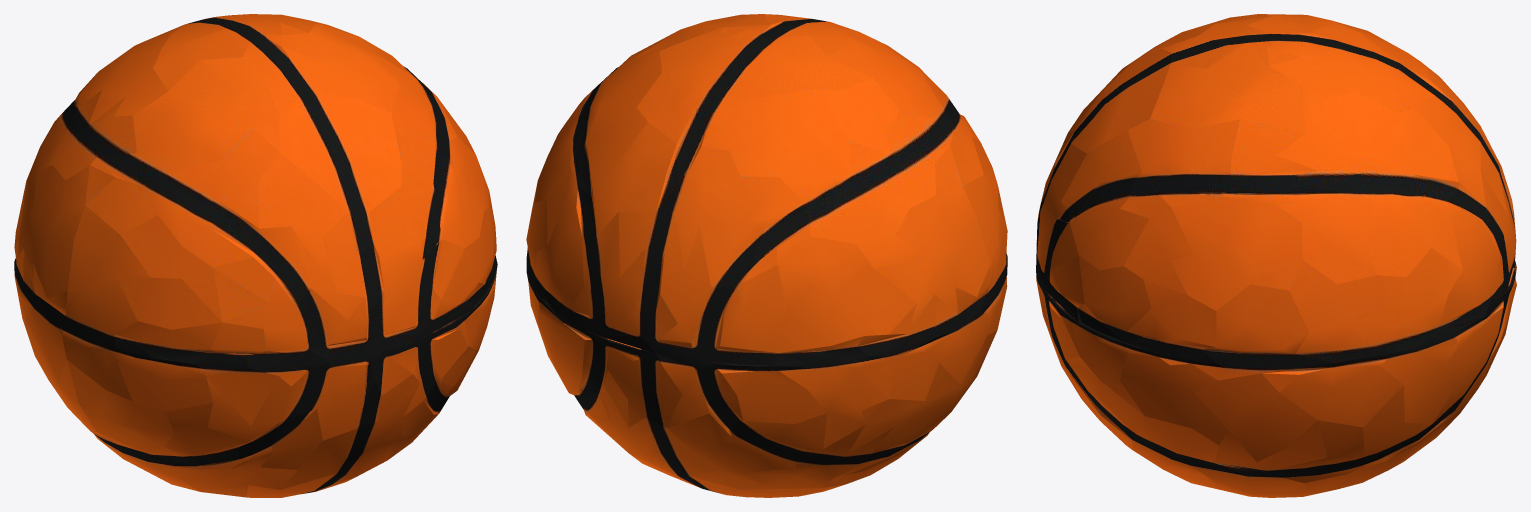
File: Meshy_AI_cartoon_basketball_lo_0921102916_texture_1k.glb
3 renders of one model, left to right at view 1: azimuth 30°, elevation 25°; view 2: azimuth 150°, elevation 25°; view 3: azimuth 270°, elevation 25°, orthographic.
Parts seen in each view (by area): view 1: output_unwrapped; view 2: output_unwrapped; view 3: output_unwrapped.
Boxes of the visible parts, x1=… form: output_unwrapped: x1=14, y1=14, x2=497, y2=497; output_unwrapped: x1=526, y1=14, x2=1007, y2=497; output_unwrapped: x1=1036, y1=14, x2=1516, y2=497.
Bounding box in the file's own units: 1.9 × 1.9 × 1.89.
Materials: 1 (1 with a texture image).
